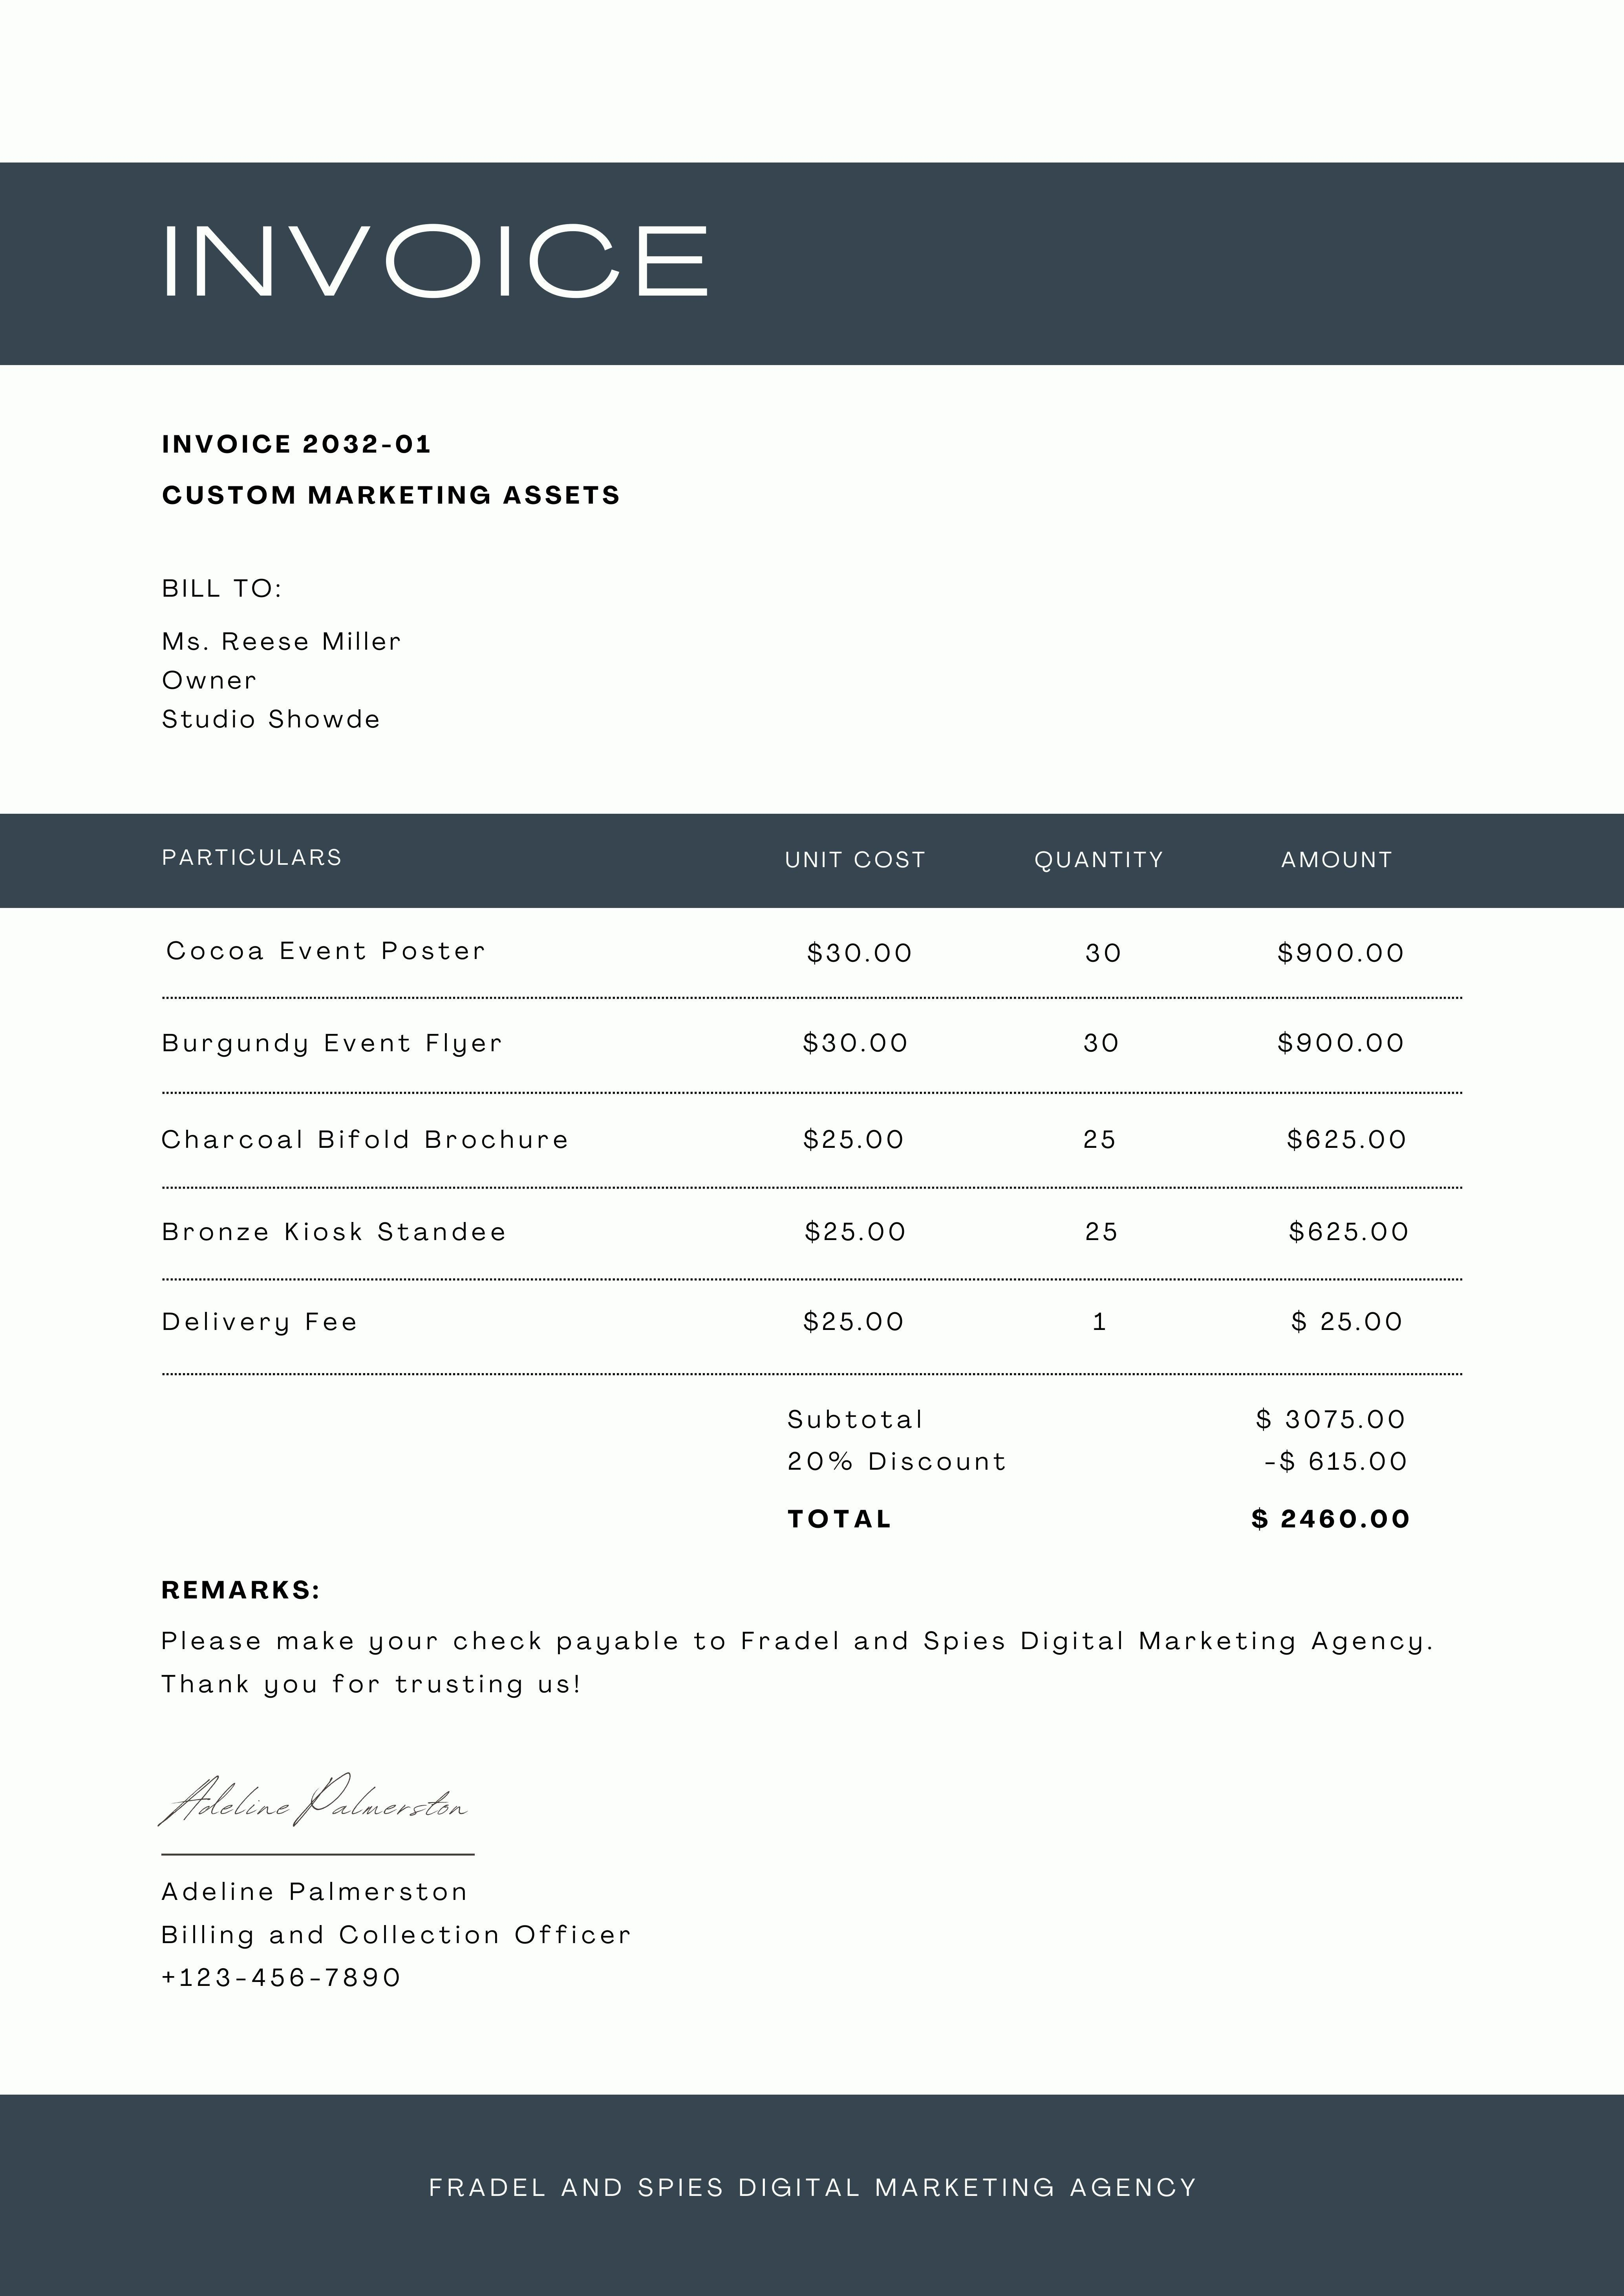ROI: (154, 917, 1470, 1362), (153, 1567, 1456, 1717), (780, 1403, 1446, 1544), (153, 574, 411, 759), (149, 471, 639, 521), (149, 420, 449, 463)
